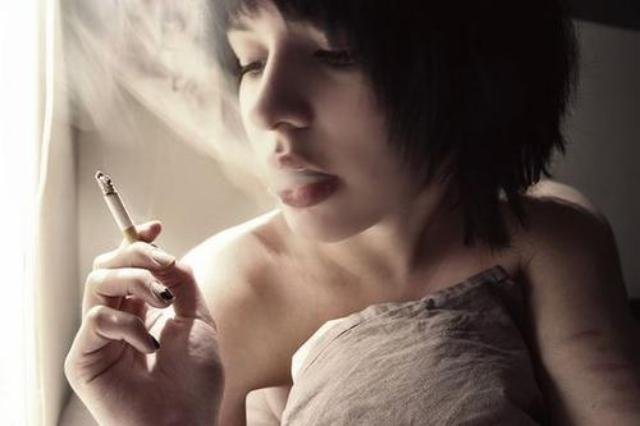Cigarette: (92, 170, 138, 244)
